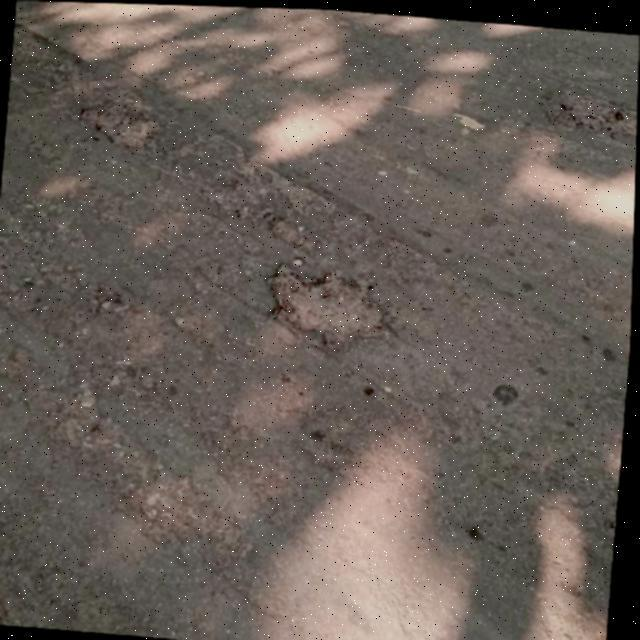pothole: (264, 258, 394, 352)
